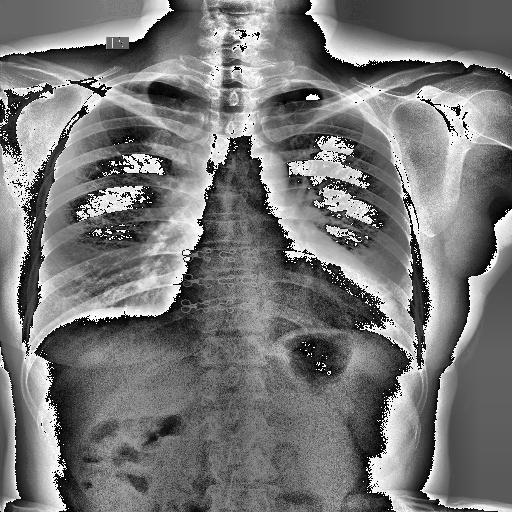0- Aortic enlargement: (233, 146, 289, 194)
3- Cardiomegaly: (164, 254, 400, 339), (164, 262, 400, 338), (162, 272, 397, 346)
